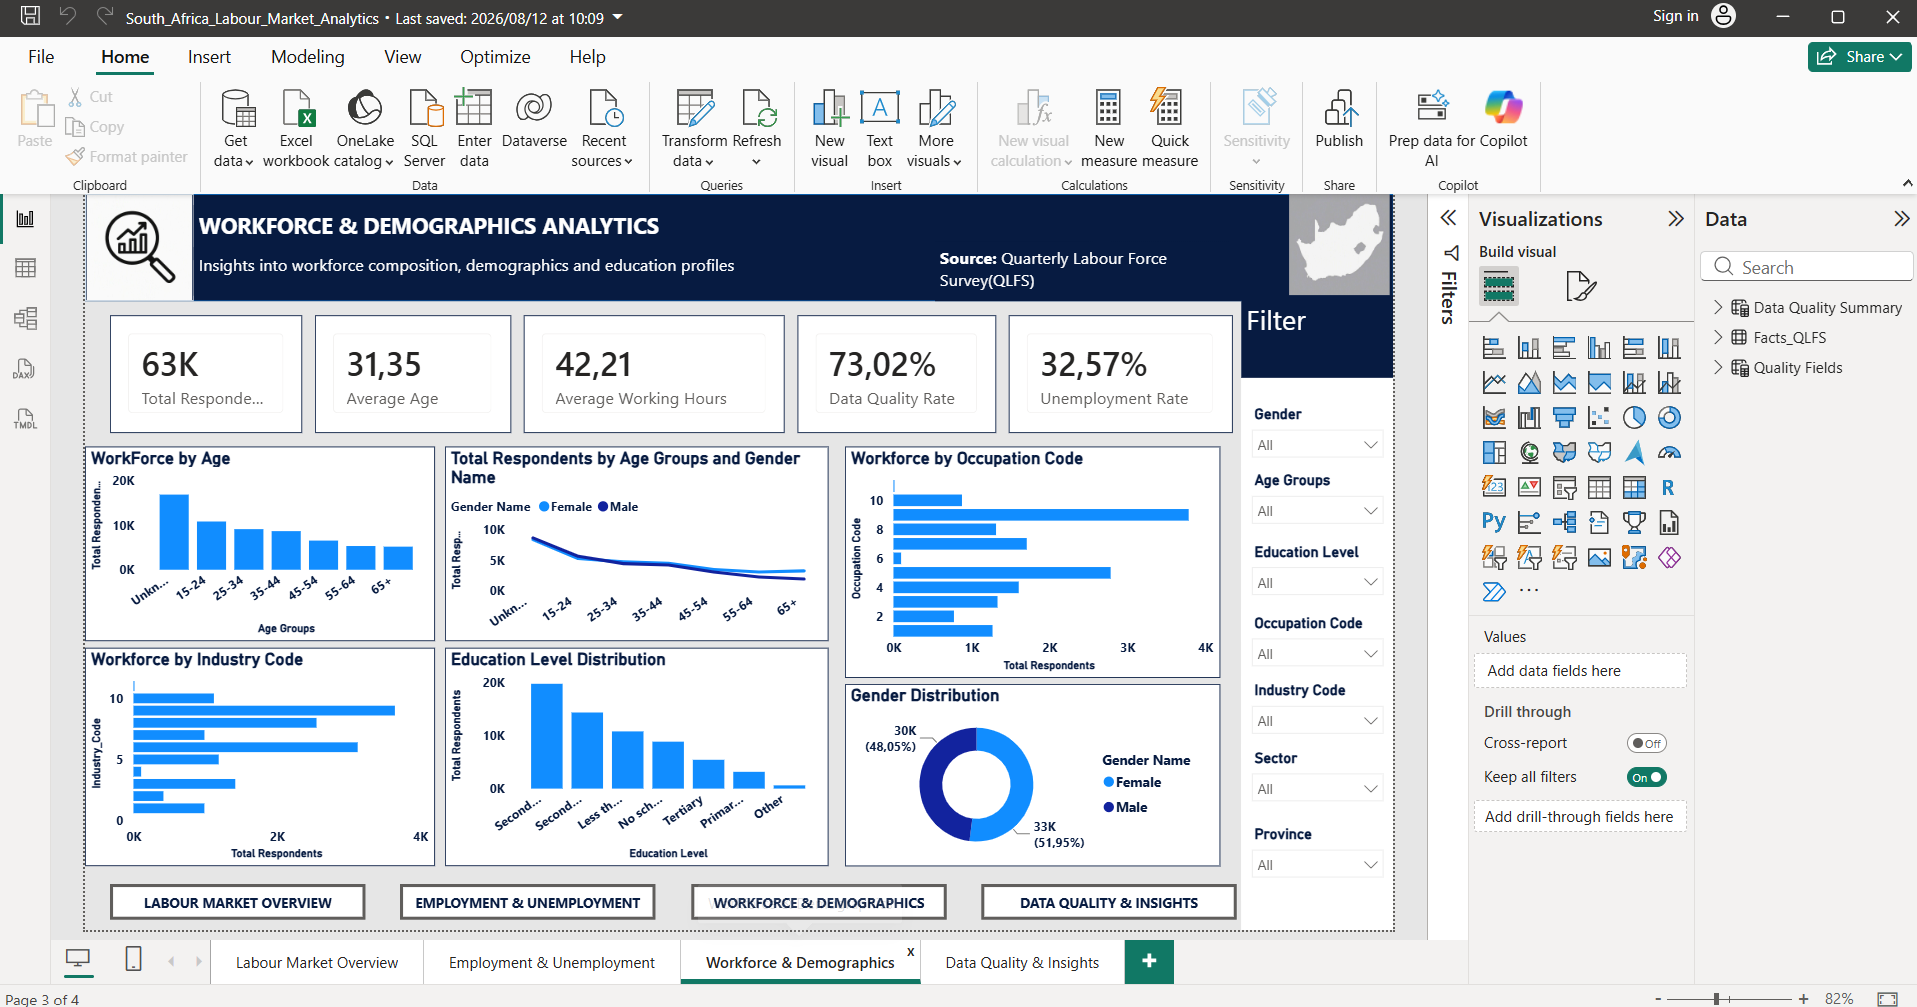

The dashboard page shown, as its layout file describes it:
{"tool":"powerbi","page":{"name":"Workforce & Demographics","canvas":[1280,720],"ordinal":2},"visuals":[{"type":"shape","box":[0,0,1280.3,105.2],"z":0},{"type":"shape","box":[1131.1,105.2,149.2,615.1],"z":1000},{"type":"image","box":[0,0,106.4,105.2],"z":2000},{"type":"image","box":[1173.9,0,106.4,99],"z":3000},{"type":"textbox","box":[106.4,11,621.2,53.8],"z":4000},{"type":"textbox","box":[106.4,52.6,583.3,46.5],"z":5000},{"type":"cardVisual","fields":{"Data":["Facts_QLFS.Total Respondents"]},"box":[24.5,118.6,188.3,114.9],"z":6000},{"type":"cardVisual","fields":{"Data":["Facts_QLFS.Average Age"]},"box":[225,118.6,192,114.9],"z":7000},{"type":"cardVisual","fields":{"Data":["Facts_QLFS.Average Working Hours"]},"box":[429.2,118.6,255.6,114.9],"z":8000},{"type":"cardVisual","fields":{"Data":["Facts_QLFS.Unemployment Rate"]},"box":[903.7,118.6,218.9,114.9],"z":9000},{"type":"cardVisual","fields":{"Data":["Facts_QLFS.Data Quality Rate"]},"box":[697,118.6,194.4,114.9],"z":10000},{"type":"donutChart","title":"Gender Distribution","fields":{"Y":["Facts_QLFS.Total Respondents"],"Category":["Facts_QLFS.Gender Name"]},"box":[743.5,479.4,366.8,178.5],"z":11000},{"type":"clusteredBarChart","title":"Workforce by Occupation Code","fields":{"Y":["Facts_QLFS.Total Respondents"],"Category":["Facts_QLFS.Occupation_Code"]},"box":[743.5,247,366.8,226.2],"z":12000},{"type":"textbox","box":[1131.1,99,149.2,80.7],"z":13000},{"type":"lineChart","fields":{"Category":["Facts_QLFS.Age Groups"],"Y":["Facts_QLFS.Total Respondents"],"Series":["Facts_QLFS.Gender Name"]},"box":[352.2,247,375.4,190.8],"z":14000},{"type":"columnChart","title":"WorkForce by Age","fields":{"Y":["Facts_QLFS.Total Respondents"],"Category":["Facts_QLFS.Age Groups"]},"box":[0,247,342.4,190.8],"z":15000},{"type":"columnChart","title":"Education Level Distribution","fields":{"Y":["Facts_QLFS.Total Respondents"],"Category":["Facts_QLFS.Education Status Name"]},"box":[352.2,443.9,375.4,214],"z":16000},{"type":"barChart","title":"Workforce by  Industry Code","fields":{"Y":["Facts_QLFS.Total Respondents"],"Category":["Facts_QLFS.Industry_Code"]},"box":[0,443.9,342.4,214],"z":17000},{"type":"actionButton","box":[24.5,675,250,35],"z":18000},{"type":"actionButton","box":[308.6,675,250,35],"z":19000},{"type":"actionButton","box":[592.7,675,250,35],"z":20000},{"type":"actionButton","box":[876.8,675,250,35],"z":21000},{"type":"slicer","fields":{"Values":["Facts_QLFS.Gender Name"]},"box":[1131.1,201.8,149.2,64.8],"z":22000},{"type":"slicer","fields":{"Values":["Facts_QLFS.Age Groups"]},"box":[1131.1,266.6,149.2,79.5],"z":23000},{"type":"slicer","fields":{"Values":["Facts_QLFS.Education Status Name"]},"box":[1131.1,336.3,149.2,101.5],"z":24000},{"type":"slicer","fields":{"Values":["Facts_QLFS.Occupation_Code"]},"box":[1131.1,406,149.2,75.8],"z":25000},{"type":"slicer","fields":{"Values":["Facts_QLFS.Industry_Code"]},"box":[1131.1,472,149.2,79.5],"z":26000},{"type":"slicer","fields":{"Values":["Facts_QLFS.Sector Name"]},"box":[1131.1,538,149.2,79.5],"z":27000},{"type":"slicer","fields":{"Values":["Facts_QLFS.Province Name"]},"box":[1131.1,612.6,149.2,79.5],"z":28000},{"type":"textbox","box":[831.5,46.5,299.6,58.7],"z":29000}]}

Visuals, with their boxes on the page's 1280x720 design canvas (x1, y1, x2, y2). These are canvas units, not pixel positions in the 1917x1007 screenshot, which may show the page scaled, cropped or inside an application window:
shape: select_region(0, 0, 1280, 105)
shape: select_region(1131, 105, 1280, 720)
image: select_region(0, 0, 106, 105)
image: select_region(1174, 0, 1280, 99)
textbox: select_region(106, 11, 728, 65)
textbox: select_region(106, 53, 690, 99)
cardVisual - Facts_QLFS.Total Respondents: select_region(24, 119, 213, 234)
cardVisual - Facts_QLFS.Average Age: select_region(225, 119, 417, 234)
cardVisual - Facts_QLFS.Average Working Hours: select_region(429, 119, 685, 234)
cardVisual - Facts_QLFS.Unemployment Rate: select_region(904, 119, 1123, 234)
cardVisual - Facts_QLFS.Data Quality Rate: select_region(697, 119, 891, 234)
"Gender Distribution" donutChart: select_region(744, 479, 1110, 658)
"Workforce by Occupation Code" clusteredBarChart: select_region(744, 247, 1110, 473)
textbox: select_region(1131, 99, 1280, 180)
lineChart - Facts_QLFS.Age Groups x Facts_QLFS.Total Respondents: select_region(352, 247, 728, 438)
"WorkForce by Age" columnChart: select_region(0, 247, 342, 438)
"Education Level Distribution" columnChart: select_region(352, 444, 728, 658)
"Workforce by  Industry Code" barChart: select_region(0, 444, 342, 658)
actionButton: select_region(24, 675, 274, 710)
actionButton: select_region(309, 675, 559, 710)
actionButton: select_region(593, 675, 843, 710)
actionButton: select_region(877, 675, 1127, 710)
slicer - Facts_QLFS.Gender Name: select_region(1131, 202, 1280, 267)
slicer - Facts_QLFS.Age Groups: select_region(1131, 267, 1280, 346)
slicer - Facts_QLFS.Education Status Name: select_region(1131, 336, 1280, 438)
slicer - Facts_QLFS.Occupation_Code: select_region(1131, 406, 1280, 482)
slicer - Facts_QLFS.Industry_Code: select_region(1131, 472, 1280, 552)
slicer - Facts_QLFS.Sector Name: select_region(1131, 538, 1280, 618)
slicer - Facts_QLFS.Province Name: select_region(1131, 613, 1280, 692)
textbox: select_region(832, 46, 1131, 105)
